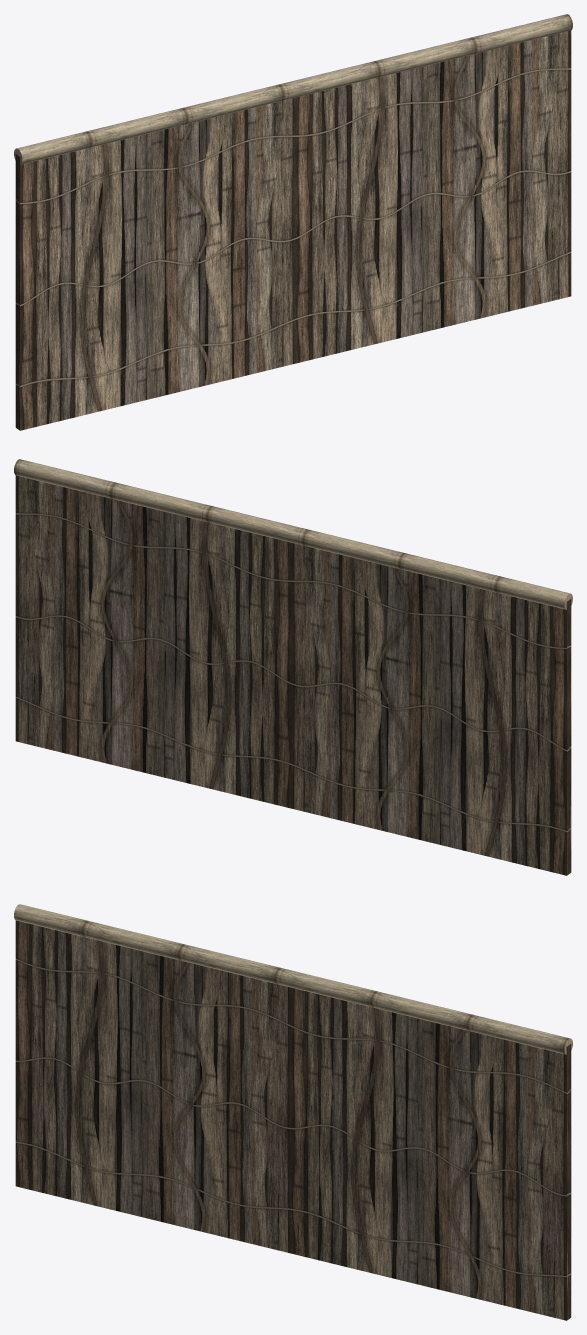
File: half_wall.glb
The picture shows the model from 3 angles, top to bottom: view 1: azimuth 30°, elevation 25°; view 2: azimuth 150°, elevation 25°; view 3: azimuth 330°, elevation 25°; orthographic projection.
Parts seen in each view (by area): view 1: half_wall; view 2: half_wall; view 3: half_wall.
Boxes of the visible parts, x1,y1,x2,y2 form: half_wall: [14, 14, 572, 430]; half_wall: [14, 459, 572, 875]; half_wall: [14, 904, 572, 1320].
Bounding box in the file's own units: 5.16 × 2.5 × 0.1366.
Materials: 2 (2 with a texture image).
